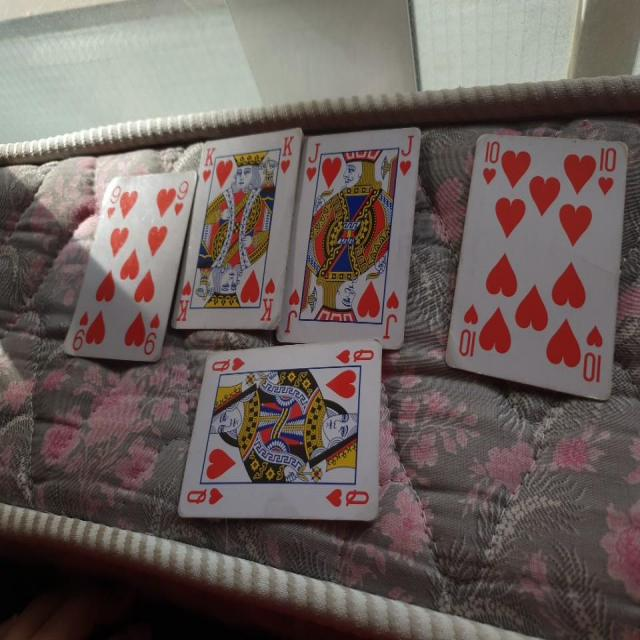10 Hearts: (442, 125, 631, 402)
9 Hearts: (59, 167, 199, 365)
J Hearts: (276, 130, 424, 357)
K Hearts: (172, 122, 308, 330)
Q Hearts: (178, 346, 388, 528)
